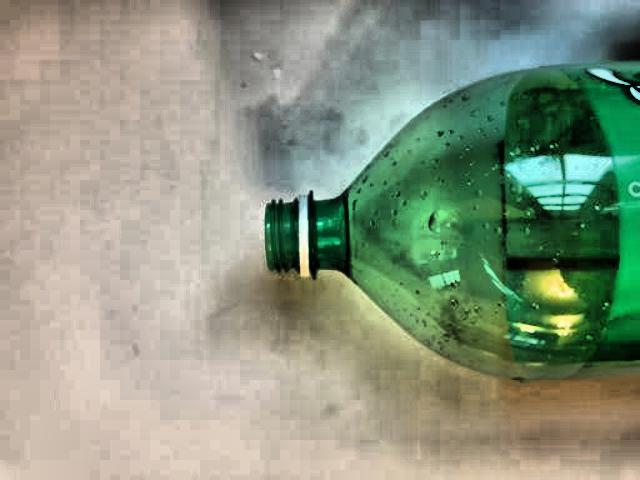Bottles: (228, 53, 640, 398)
